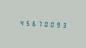five: (23, 18, 28, 27)
four: (17, 18, 22, 26)
nine: (53, 20, 58, 28)
seven: (35, 19, 40, 27)
six: (29, 19, 34, 27)
three: (59, 20, 64, 29)
zero: (41, 19, 46, 28), (47, 20, 52, 28)
